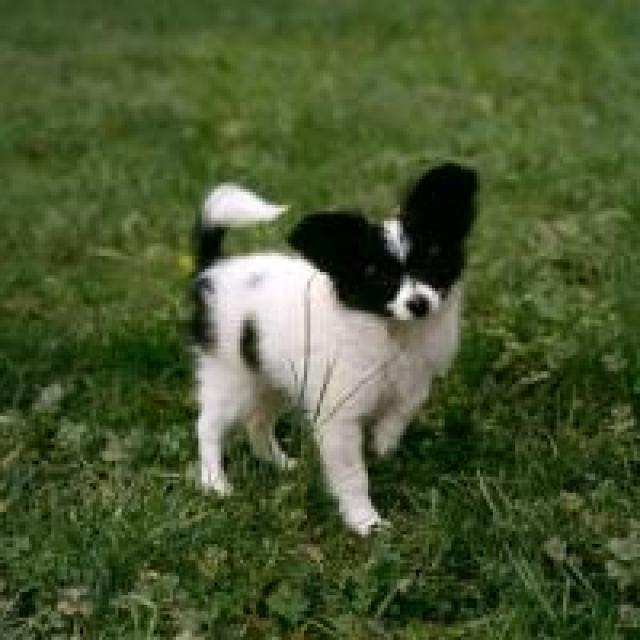papillon: (160, 147, 506, 560)
